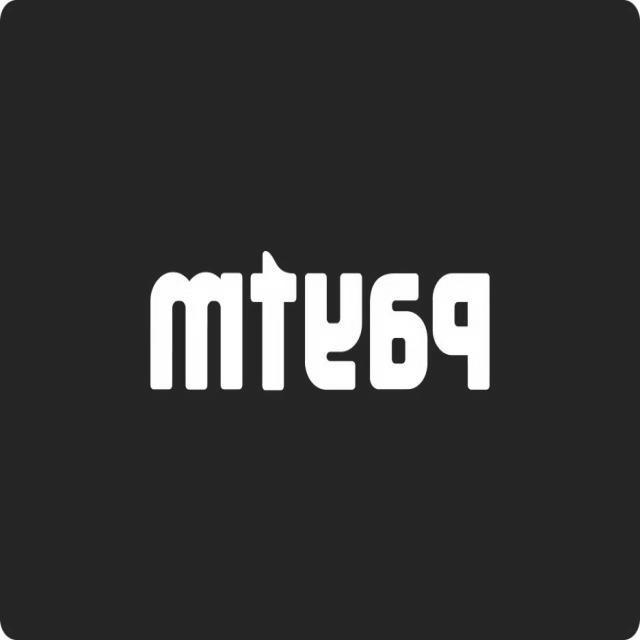fully_visible: (142, 244, 498, 402)
